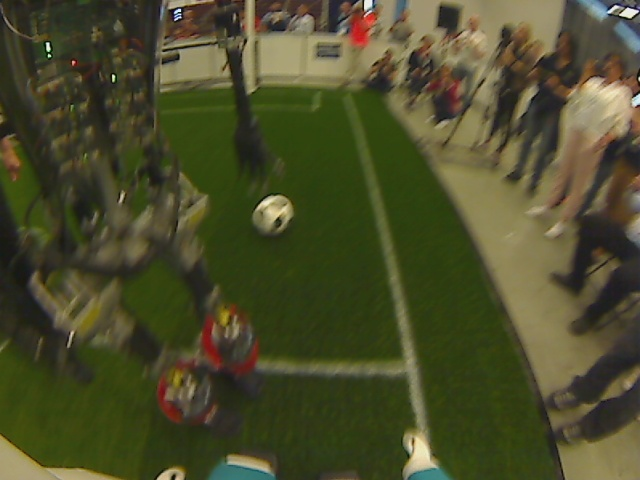ball: (250, 192, 293, 238)
